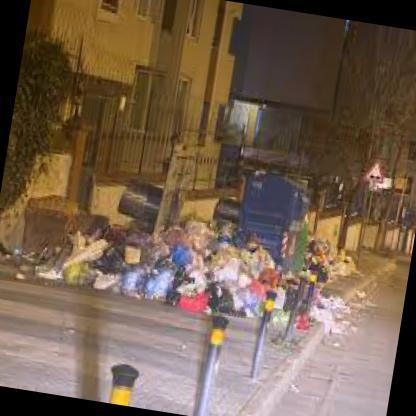Garbage: (84, 216, 270, 318), (121, 232, 243, 316), (226, 251, 270, 314), (156, 248, 189, 288), (112, 263, 144, 299), (92, 268, 119, 302), (66, 258, 93, 288), (327, 310, 353, 339), (214, 281, 235, 309), (326, 258, 348, 280), (223, 265, 240, 287), (310, 244, 325, 261)
